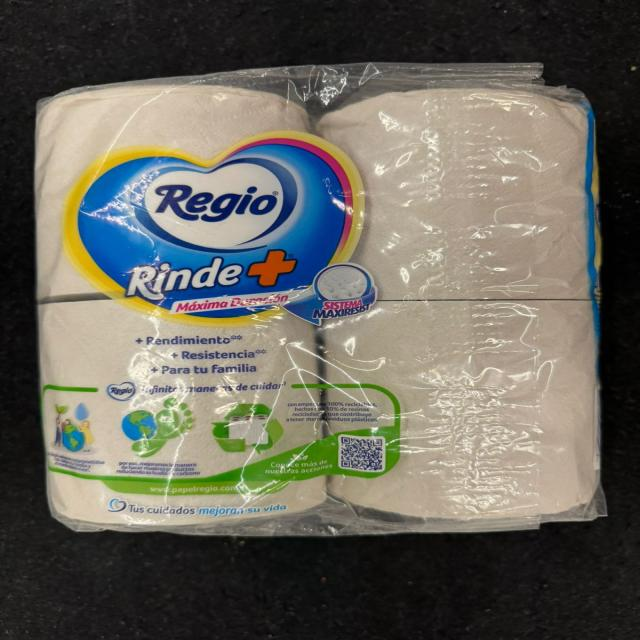Papel Regio Rinde 4pz: (39, 61, 612, 540)
